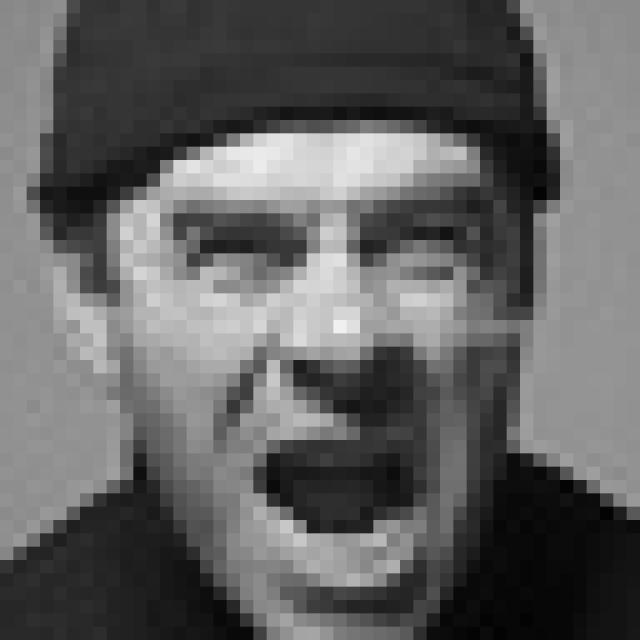angry: (157, 184, 500, 590)
